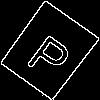P: (24, 25, 80, 82)
